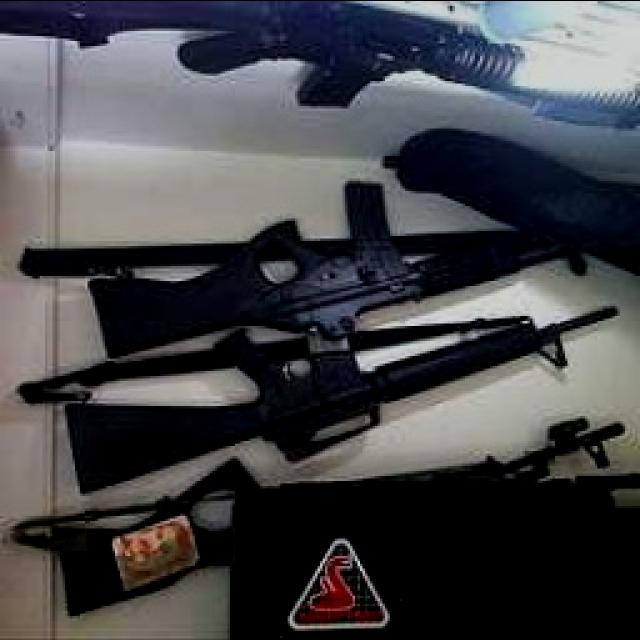long weapon: (41, 278, 640, 504), (34, 171, 616, 361), (27, 0, 640, 133)
